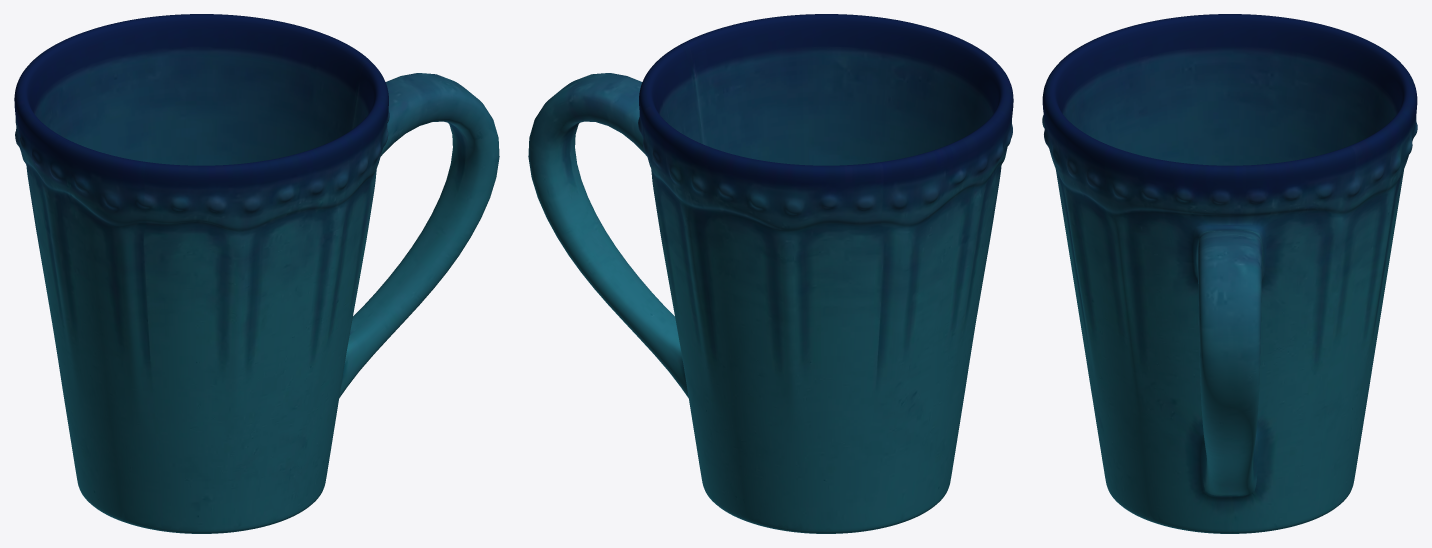
Rendered from mug.glb.
3 renders of one model, left to right at view 1: azimuth 30°, elevation 25°; view 2: azimuth 150°, elevation 25°; view 3: azimuth 270°, elevation 25°, orthographic.
Visible parts, largest first — view 1: defaultMaterial.003; view 2: defaultMaterial.003; view 3: defaultMaterial.003.
Part boxes in pixels (x1,y1,x2,y2): defaultMaterial.003: [14, 14, 499, 533]; defaultMaterial.003: [528, 14, 1013, 533]; defaultMaterial.003: [1042, 14, 1417, 533].
Bounding box in the file's own units: 13.7 × 11.39 × 9.86.
Materials: 1 (1 with a texture image).
